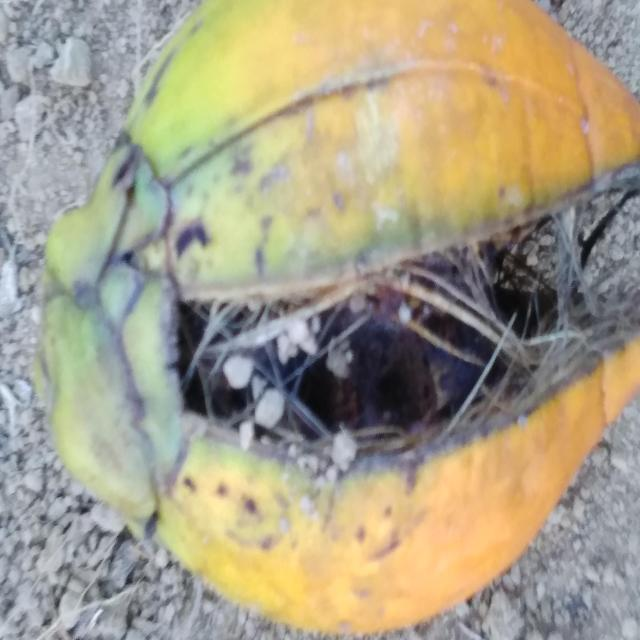damaged: (30, 0, 640, 639)
